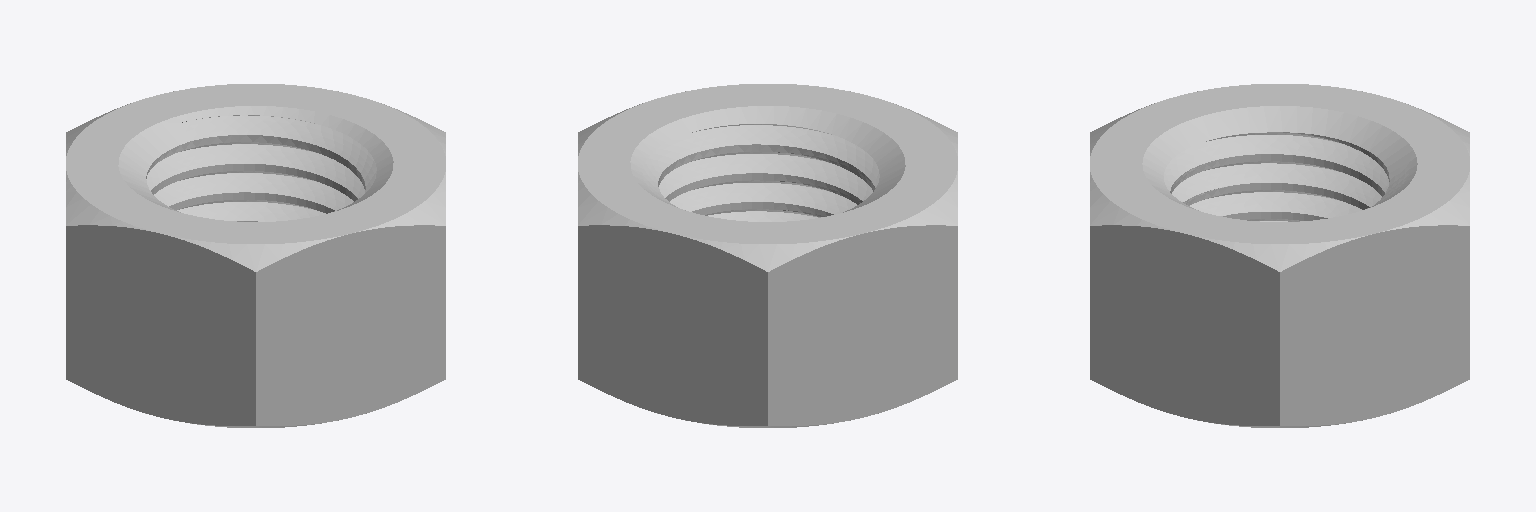
Rendered from nut.obj.
3 views of the same model, side by side, from view 1: azimuth 30°, elevation 25°; view 2: azimuth 150°, elevation 25°; view 3: azimuth 270°, elevation 25° (orthographic).
Size of the model in its own units: 34.64 by 16 by 30.